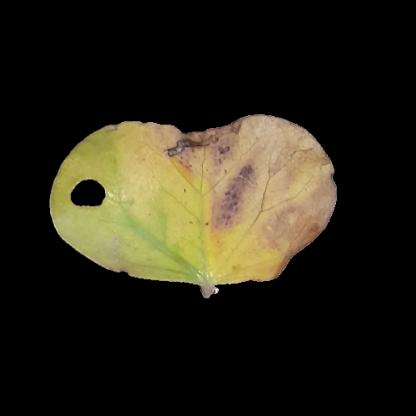curl_stage1: (118, 138, 210, 274), (241, 138, 320, 219), (218, 228, 279, 280), (68, 215, 119, 250)
